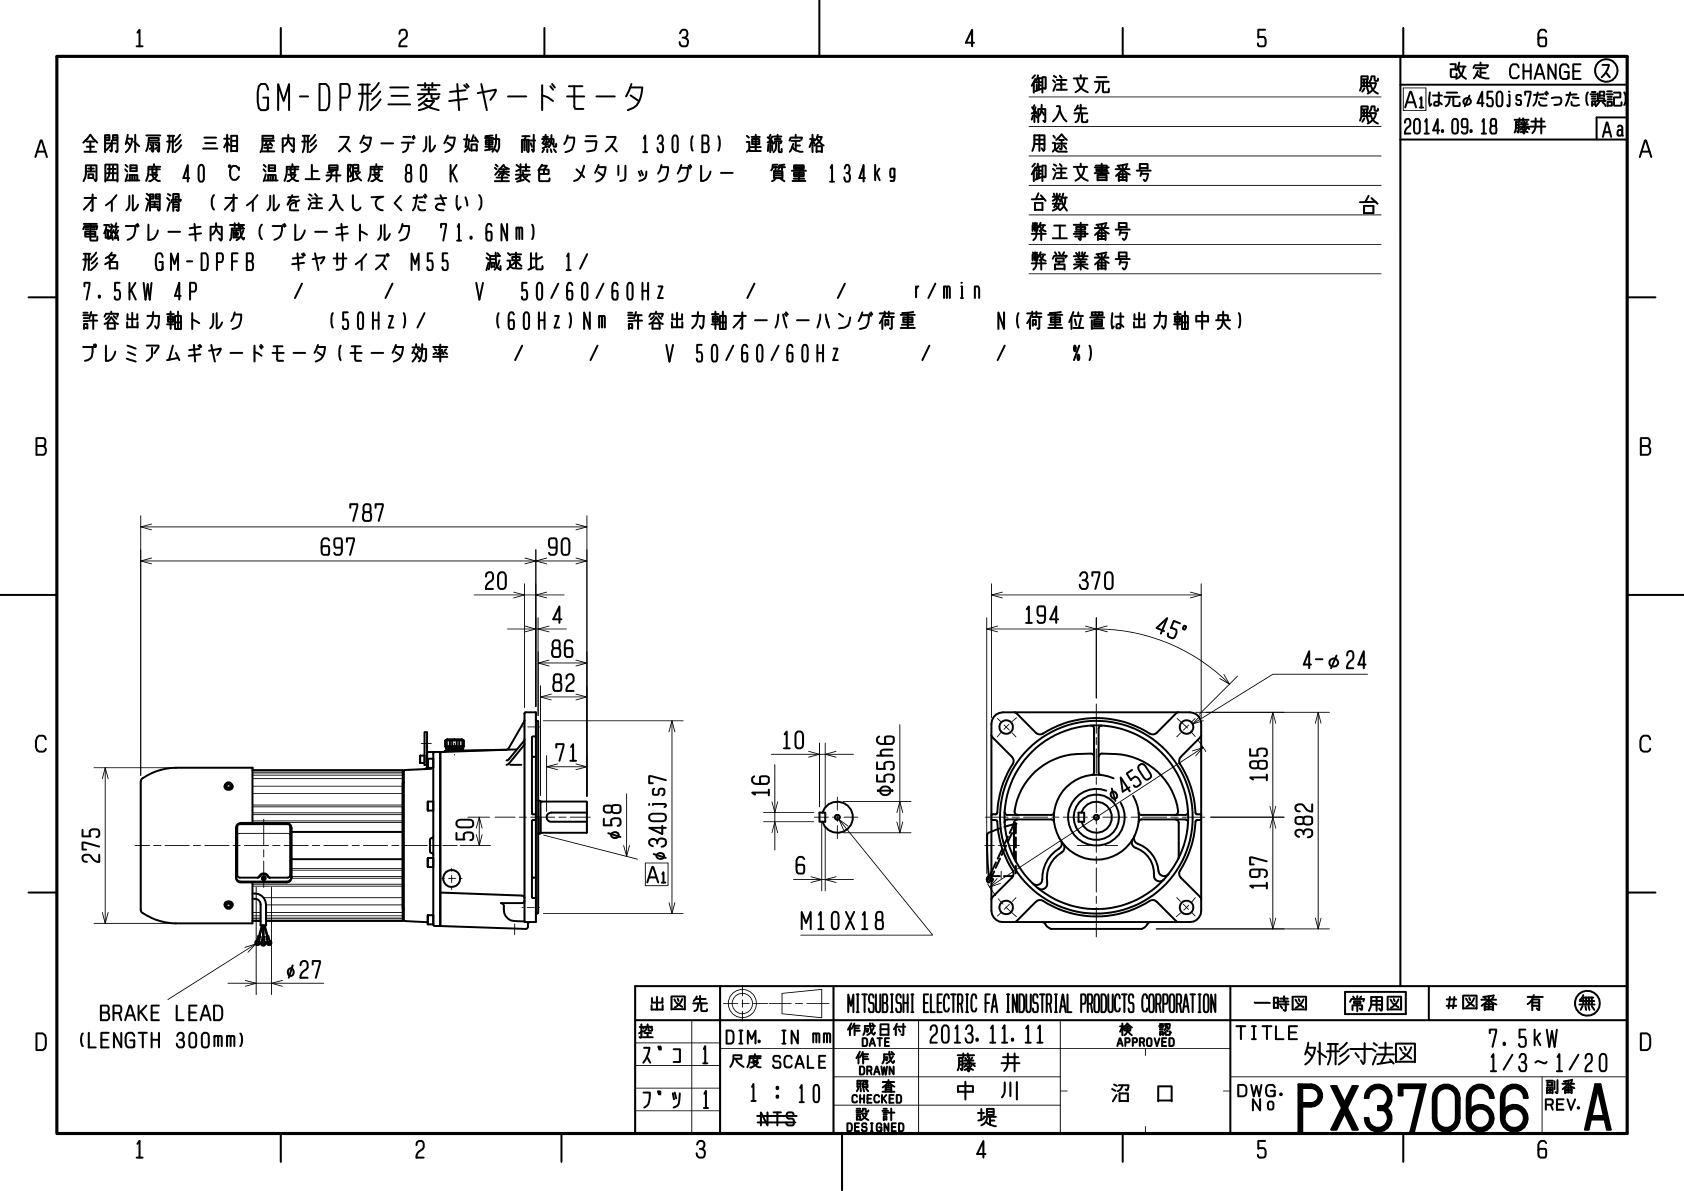GM_DP_屋内_三相_フランジ: (63, 443, 1395, 983)
